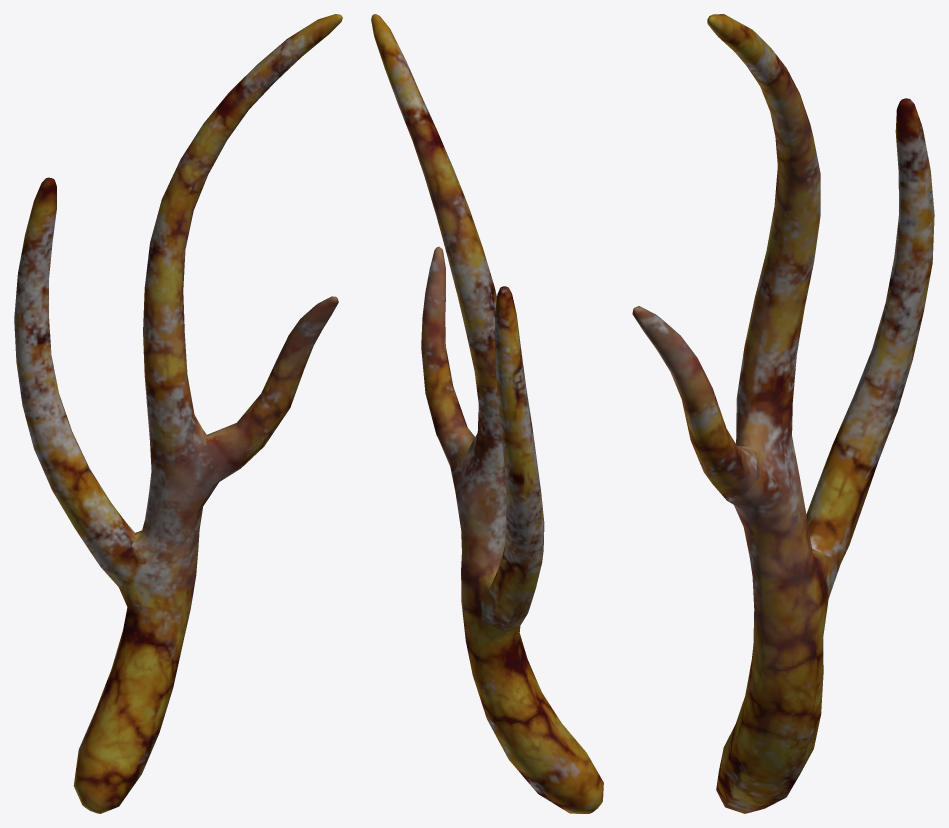
File: Mutation5.fbx
3 views of the same model, side by side, from view 1: azimuth 30°, elevation 25°; view 2: azimuth 150°, elevation 25°; view 3: azimuth 270°, elevation 25° (orthographic). The views are drawn at different scales.
Visible parts, largest first — view 1: P_Mutation05.mo; view 2: P_Mutation05.mo; view 3: P_Mutation05.mo.
Part boxes in pixels (x1,y1,x2,y2): P_Mutation05.mo: [14, 14, 342, 813]; P_Mutation05.mo: [371, 14, 603, 813]; P_Mutation05.mo: [632, 14, 934, 813].
Bounding box in the file's own units: 34.11 × 98.21 × 28.94.
